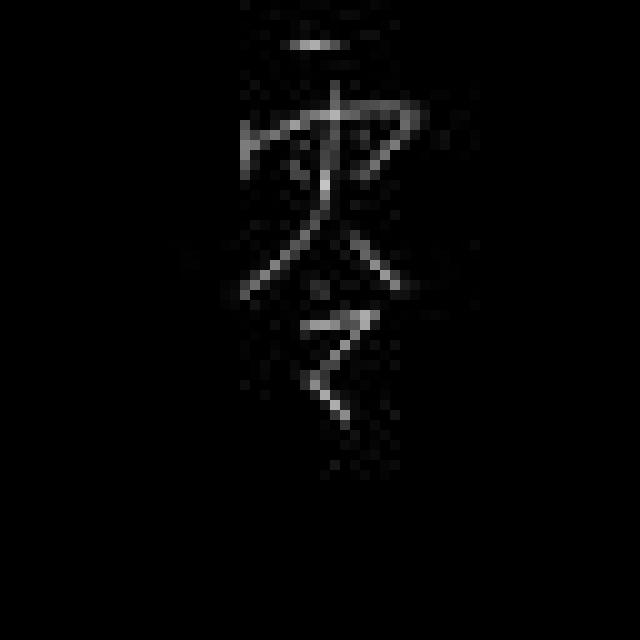0 -zero-: (220, 24, 423, 438)
